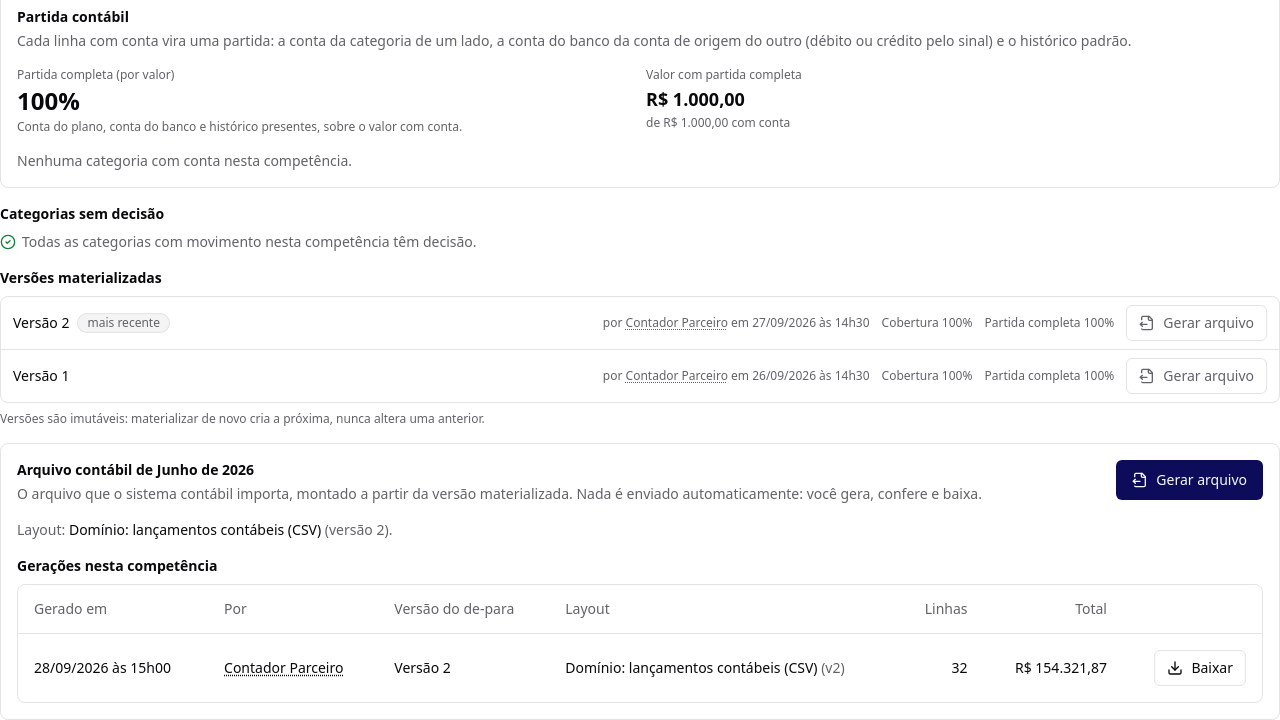
recusas 409 como ESTADO, nunca toast › ARQUIVO_SEM_MATERIALIZACAO: estado com a userMessage
This screenshot has width=1280, height=720.
(page scrolled)
Click the button "Gerar arquivo" in the row of "Arquivo contábil de" at (1190, 480), box [1116,460,1263,500]
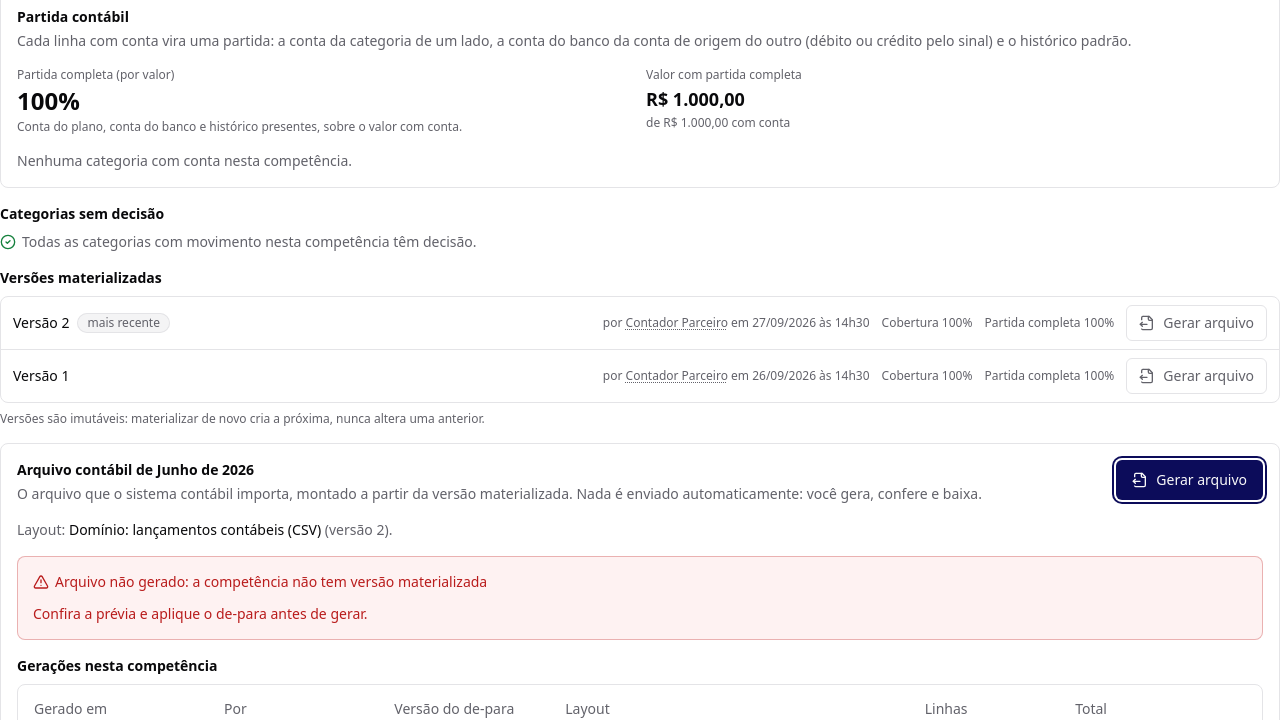
Result: the message with test id "accounting-file-refusal" shows "Confira a prévia e aplique o de-para antes de gerar." at [33,604,368,623]
